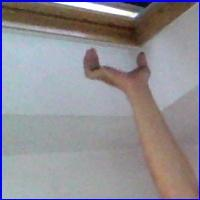space: (80, 44, 157, 95)
